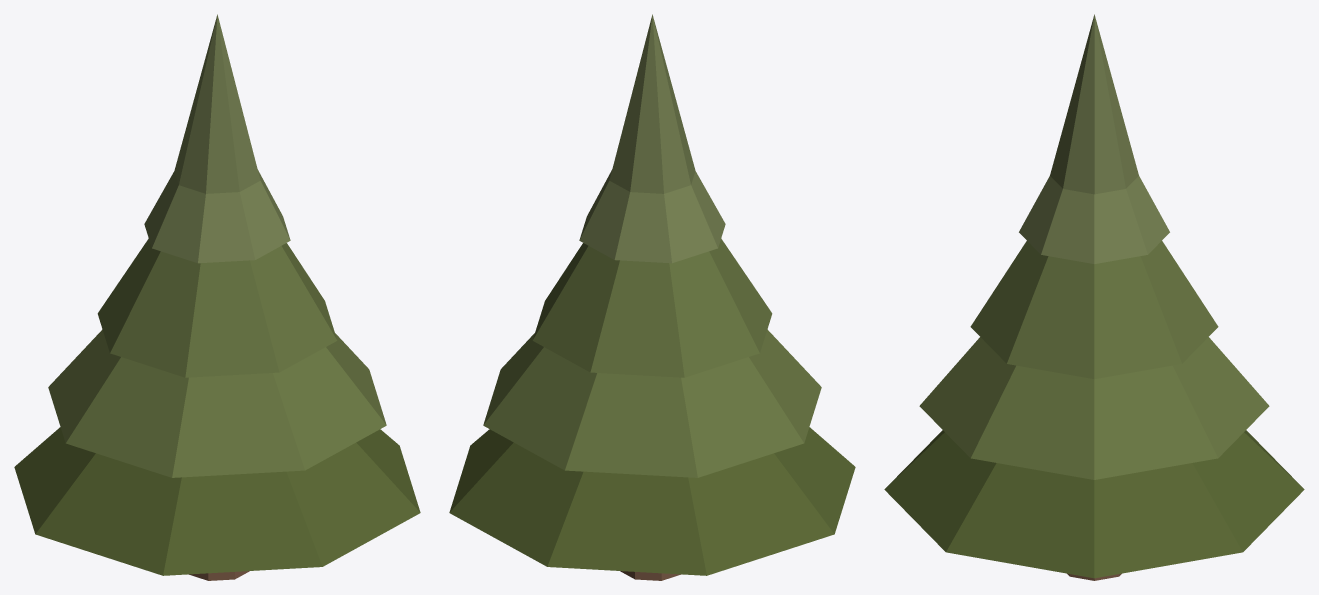
File: fir_tree_24.fbx
The picture shows the model from 3 angles, left to right: view 1: azimuth 30°, elevation 25°; view 2: azimuth 150°, elevation 25°; view 3: azimuth 270°, elevation 25°; orthographic projection.
Parts seen in each view (by area): view 1: fir_tree_24; view 2: fir_tree_24; view 3: fir_tree_24.
Boxes of the visible parts, x1,y1,x2,y2 form: fir_tree_24: (14,14,420,580); fir_tree_24: (449,14,855,580); fir_tree_24: (884,14,1304,580).
Size of the model in its own units: 340 by 494 by 340.
